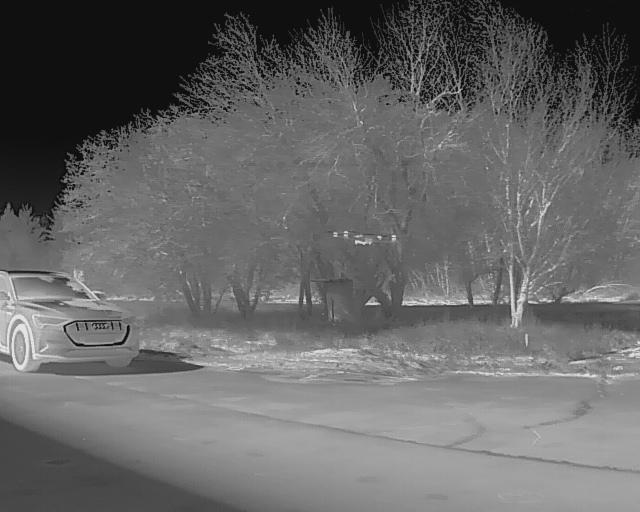drone: (328, 215, 423, 258)
